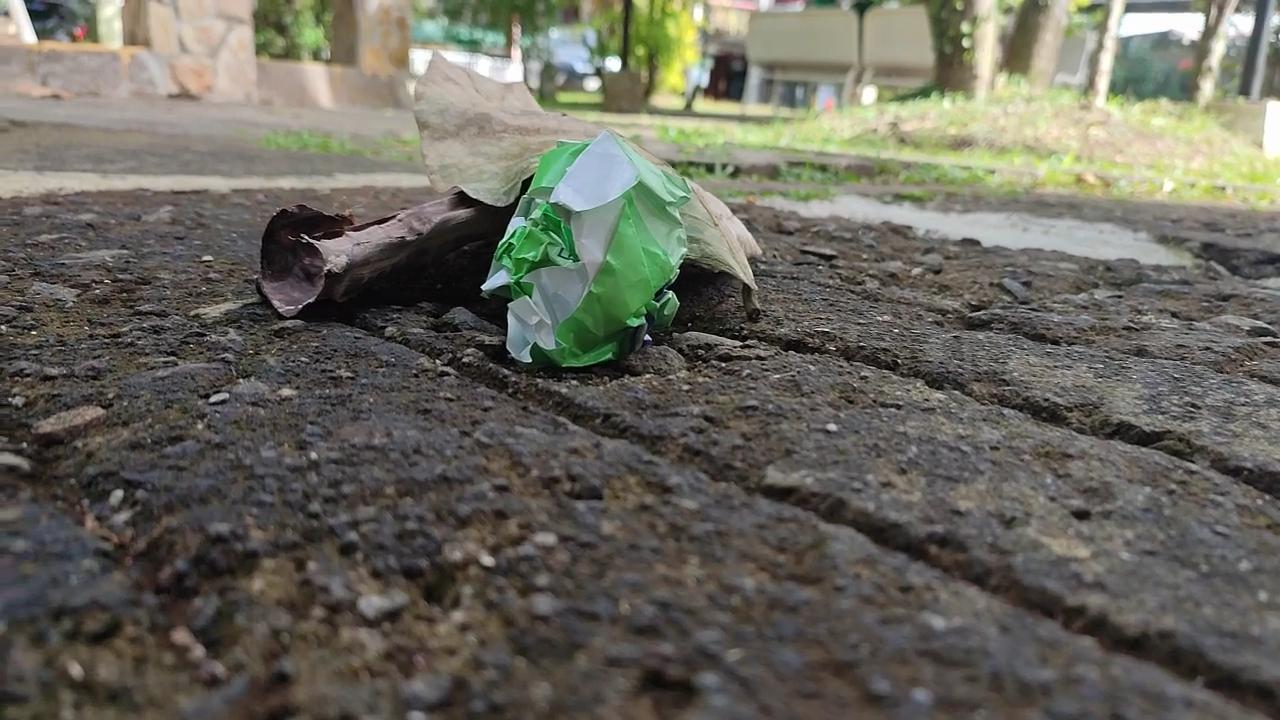Paper: (479, 126, 694, 373)
